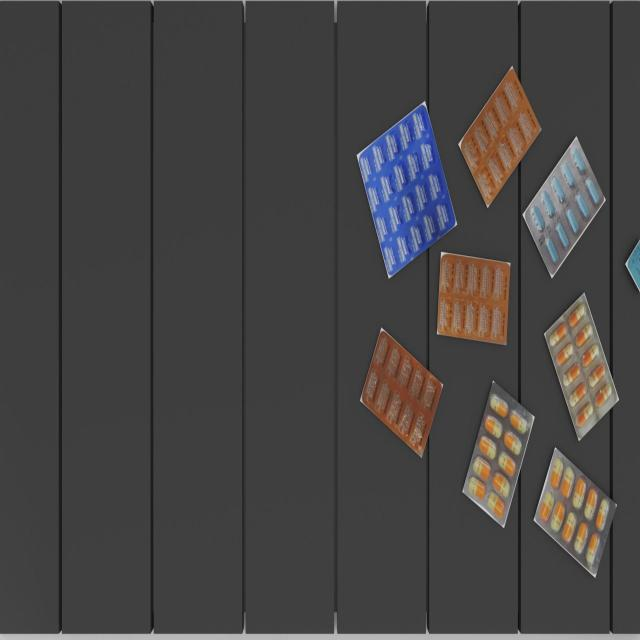blister: (356, 99, 458, 278), (542, 284, 620, 451), (452, 67, 543, 210), (531, 437, 619, 580), (458, 371, 534, 534), (520, 136, 606, 278), (355, 323, 444, 459), (434, 248, 514, 350)
